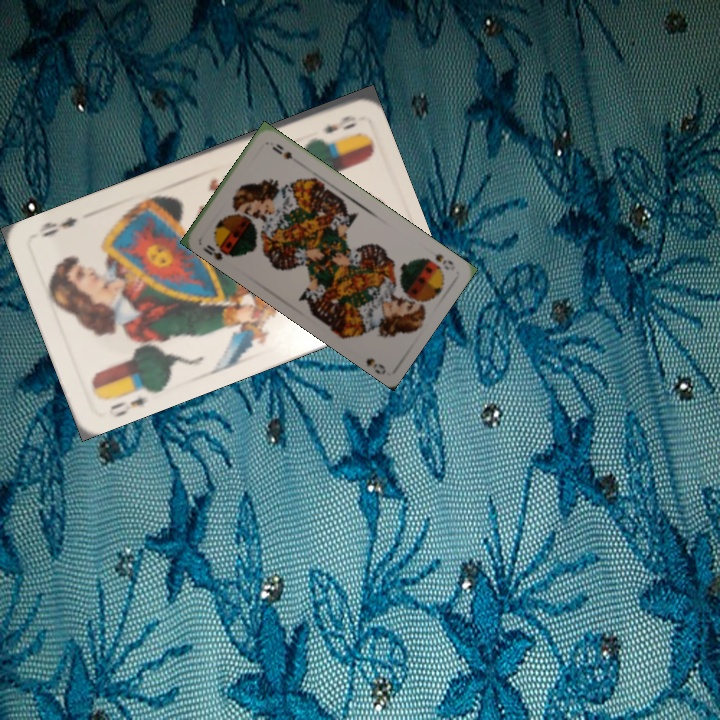EO: (106, 380, 153, 419), (319, 111, 359, 136)
SO: (198, 239, 237, 263), (430, 249, 456, 273)
